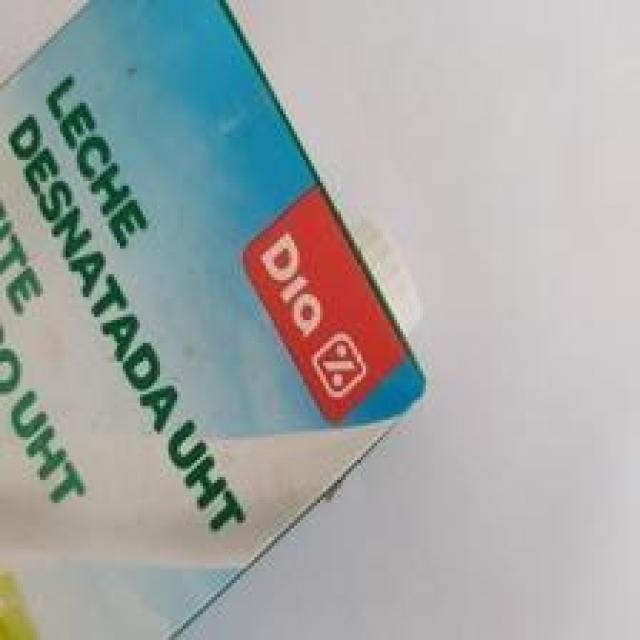PaperCardboard: (0, 1, 427, 640)
